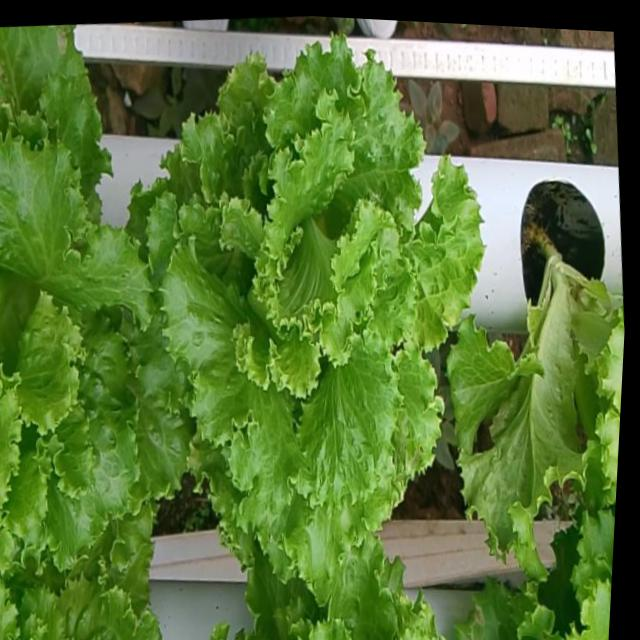Mature: (145, 35, 481, 576), (0, 123, 186, 565)
